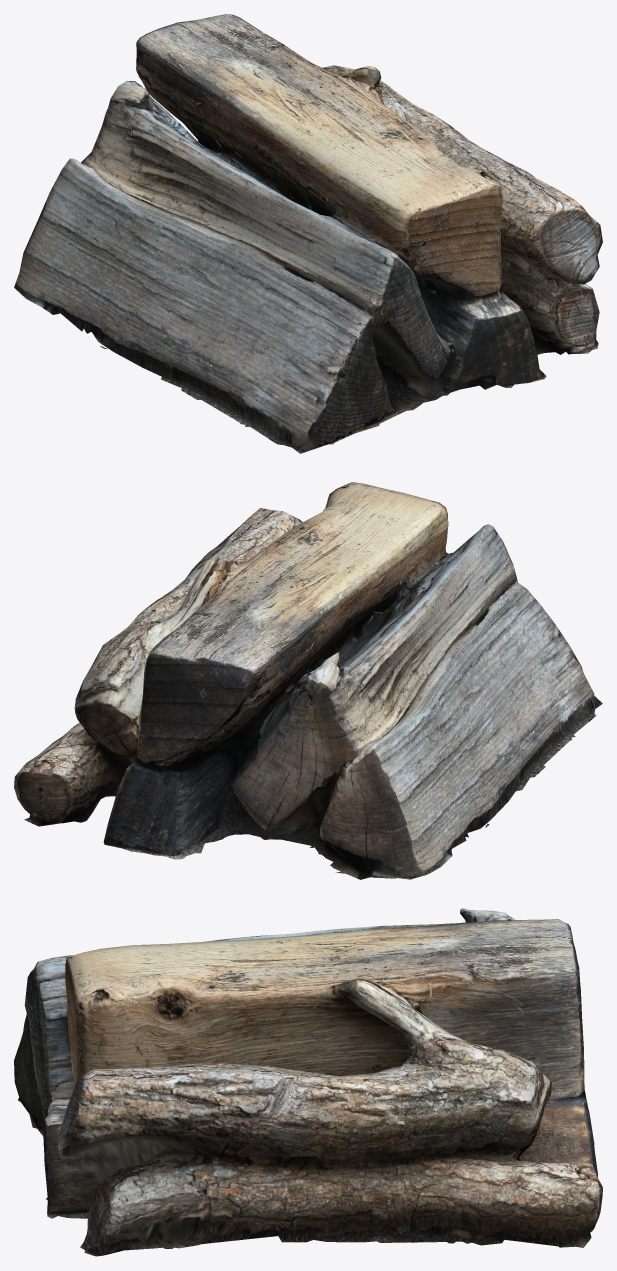
Rendered from woodpile.glb.
3 views of the same model, one above another, from view 1: azimuth 30°, elevation 25°; view 2: azimuth 150°, elevation 25°; view 3: azimuth 270°, elevation 25° (orthographic). The views are drawn at different scales.
Visible parts, largest first — view 1: woodpile; view 2: woodpile; view 3: woodpile.
Part boxes in pixels (x1,y1,x2,y2): woodpile: [14, 14, 602, 453]; woodpile: [14, 482, 602, 879]; woodpile: [14, 908, 602, 1256].
Bounding box in the file's own units: 0.8249 × 0.4203 × 1.
1 material, 1 textured.
